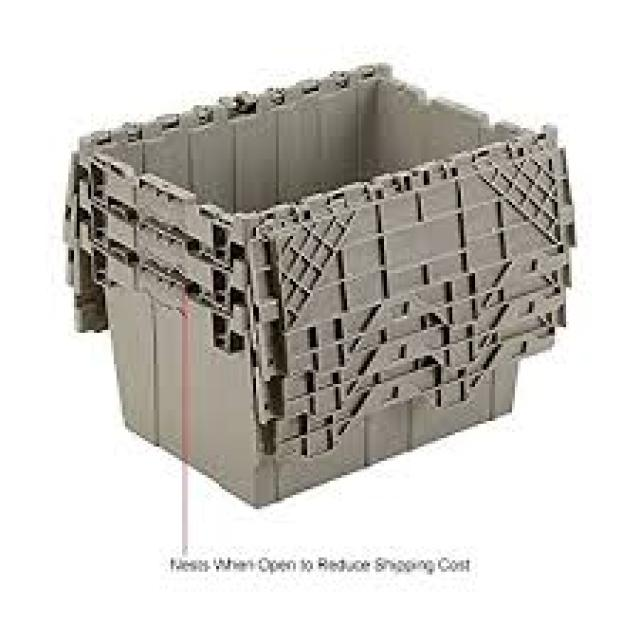basket: (32, 22, 633, 540)
